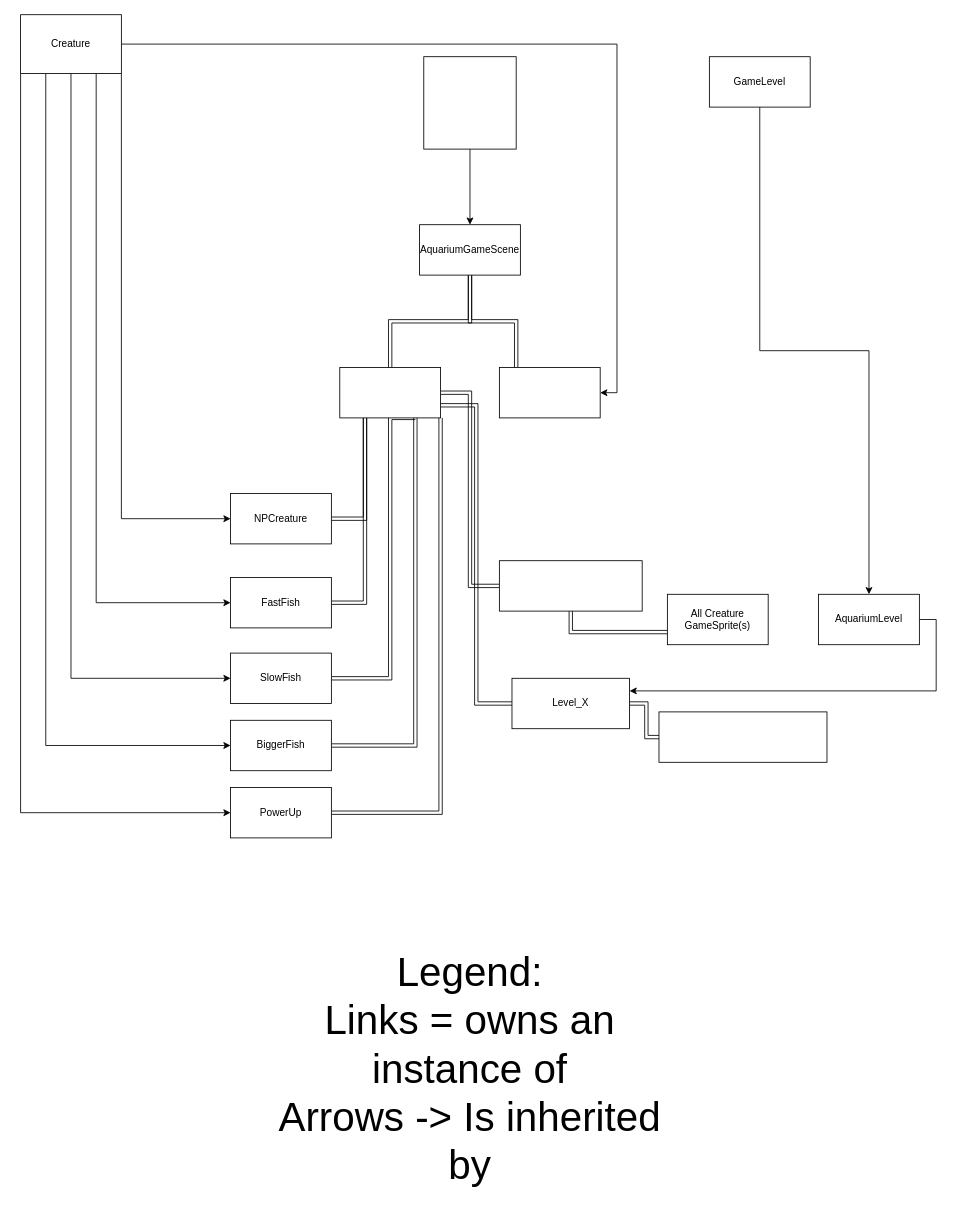
The diagram is 958 pixels wide and 1231 high, and some of its shapes have lost their labels. Each missing label, with the centre of its shape:
"Aquarium" belongs at (x=390, y=392).
"AquariumLevelPopulationNode" belongs at (x=742, y=736).
"AquariumSpriteManager" belongs at (x=570, y=585).
"GameScene" belongs at (x=469, y=102).
"PlayerCreature" belongs at (x=549, y=392).
